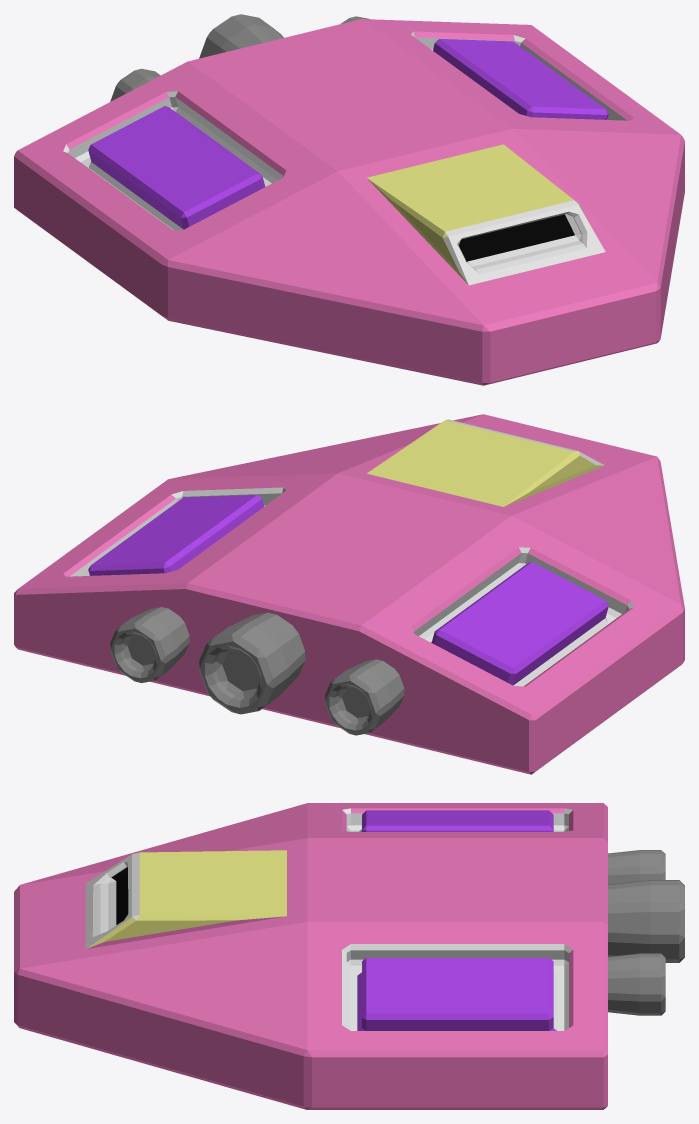
The model's file is spaceship5.fbx.
The picture shows the model from 3 angles, top to bottom: view 1: azimuth 30°, elevation 25°; view 2: azimuth 150°, elevation 25°; view 3: azimuth 270°, elevation 25°; orthographic projection.
Parts seen in each view (by area): view 1: Plane, Circle, Circle.001; view 2: Plane, Circle.001, Circle; view 3: Plane, Circle, Circle.001.
Part boxes in pixels (x1,y1,x2,y2): Plane: [14, 19, 684, 385]; Circle: [199, 14, 283, 58]; Circle.001: [110, 16, 369, 101]; Plane: [14, 414, 684, 774]; Circle.001: [110, 607, 404, 735]; Circle: [199, 612, 305, 714]; Plane: [14, 803, 607, 1109]; Circle: [608, 880, 684, 962]; Circle.001: [608, 850, 665, 1015].
Bounding box in the file's own units: 200 × 39.53 × 226.
